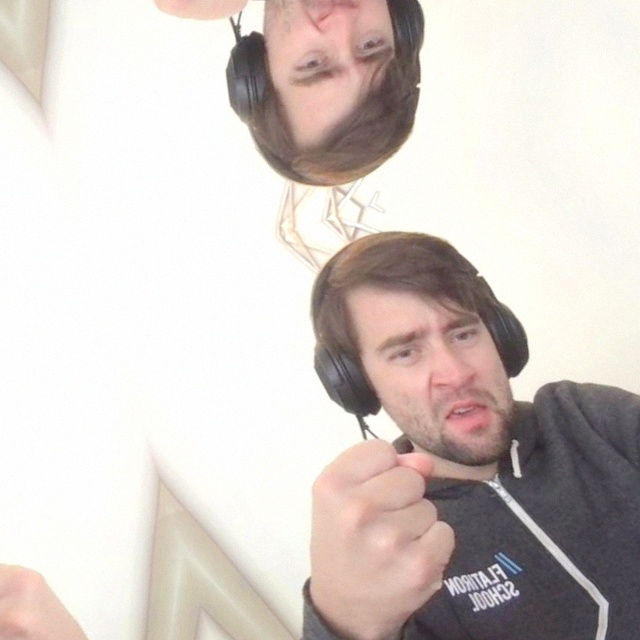Rock: (45, 0, 335, 74)
